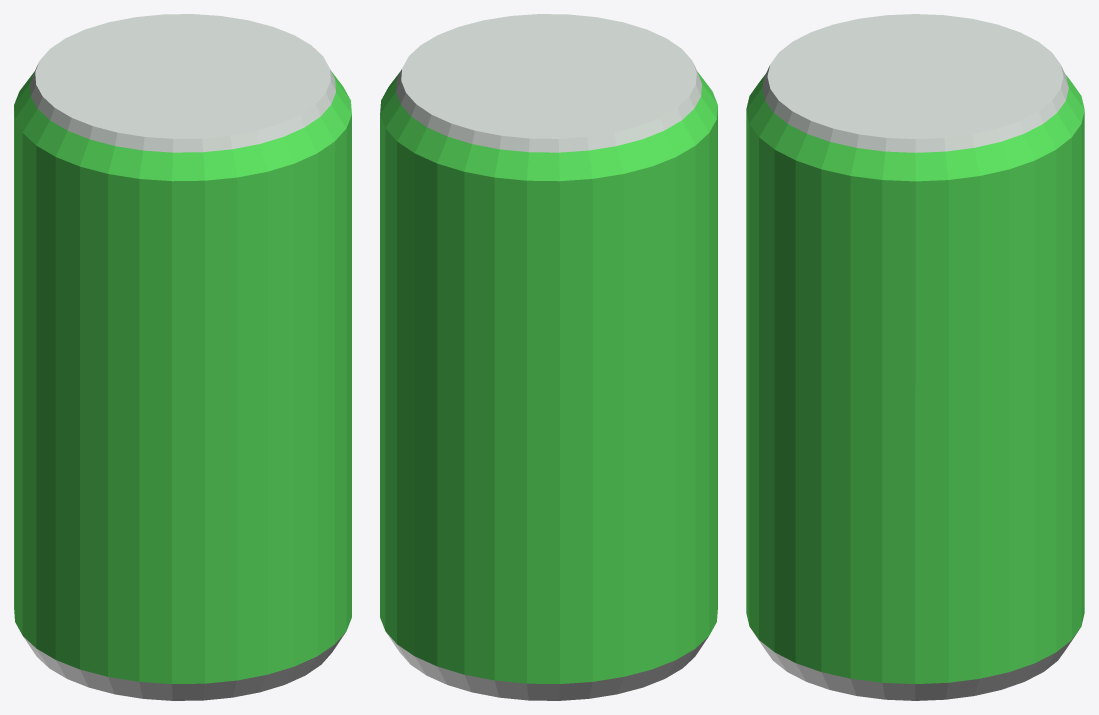
Rendered from greencan.fbx.
3 renders of one model, left to right at view 1: azimuth 30°, elevation 25°; view 2: azimuth 150°, elevation 25°; view 3: azimuth 270°, elevation 25°, orthographic.
Parts seen in each view (by area): view 1: Cylinder; view 2: Cylinder; view 3: Cylinder.
Part boxes in pixels (<box>): Cylinder: <box>14,14,351,700</box>; Cylinder: <box>380,14,717,700</box>; Cylinder: <box>746,14,1084,700</box>.
Bounding box in the file's own units: 200 × 365 × 200.
